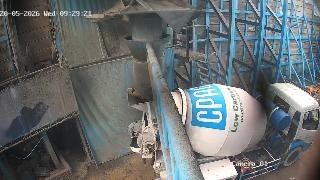cement_mixer_truck: (128, 86, 320, 180)
swing_chute: (126, 35, 173, 97)
